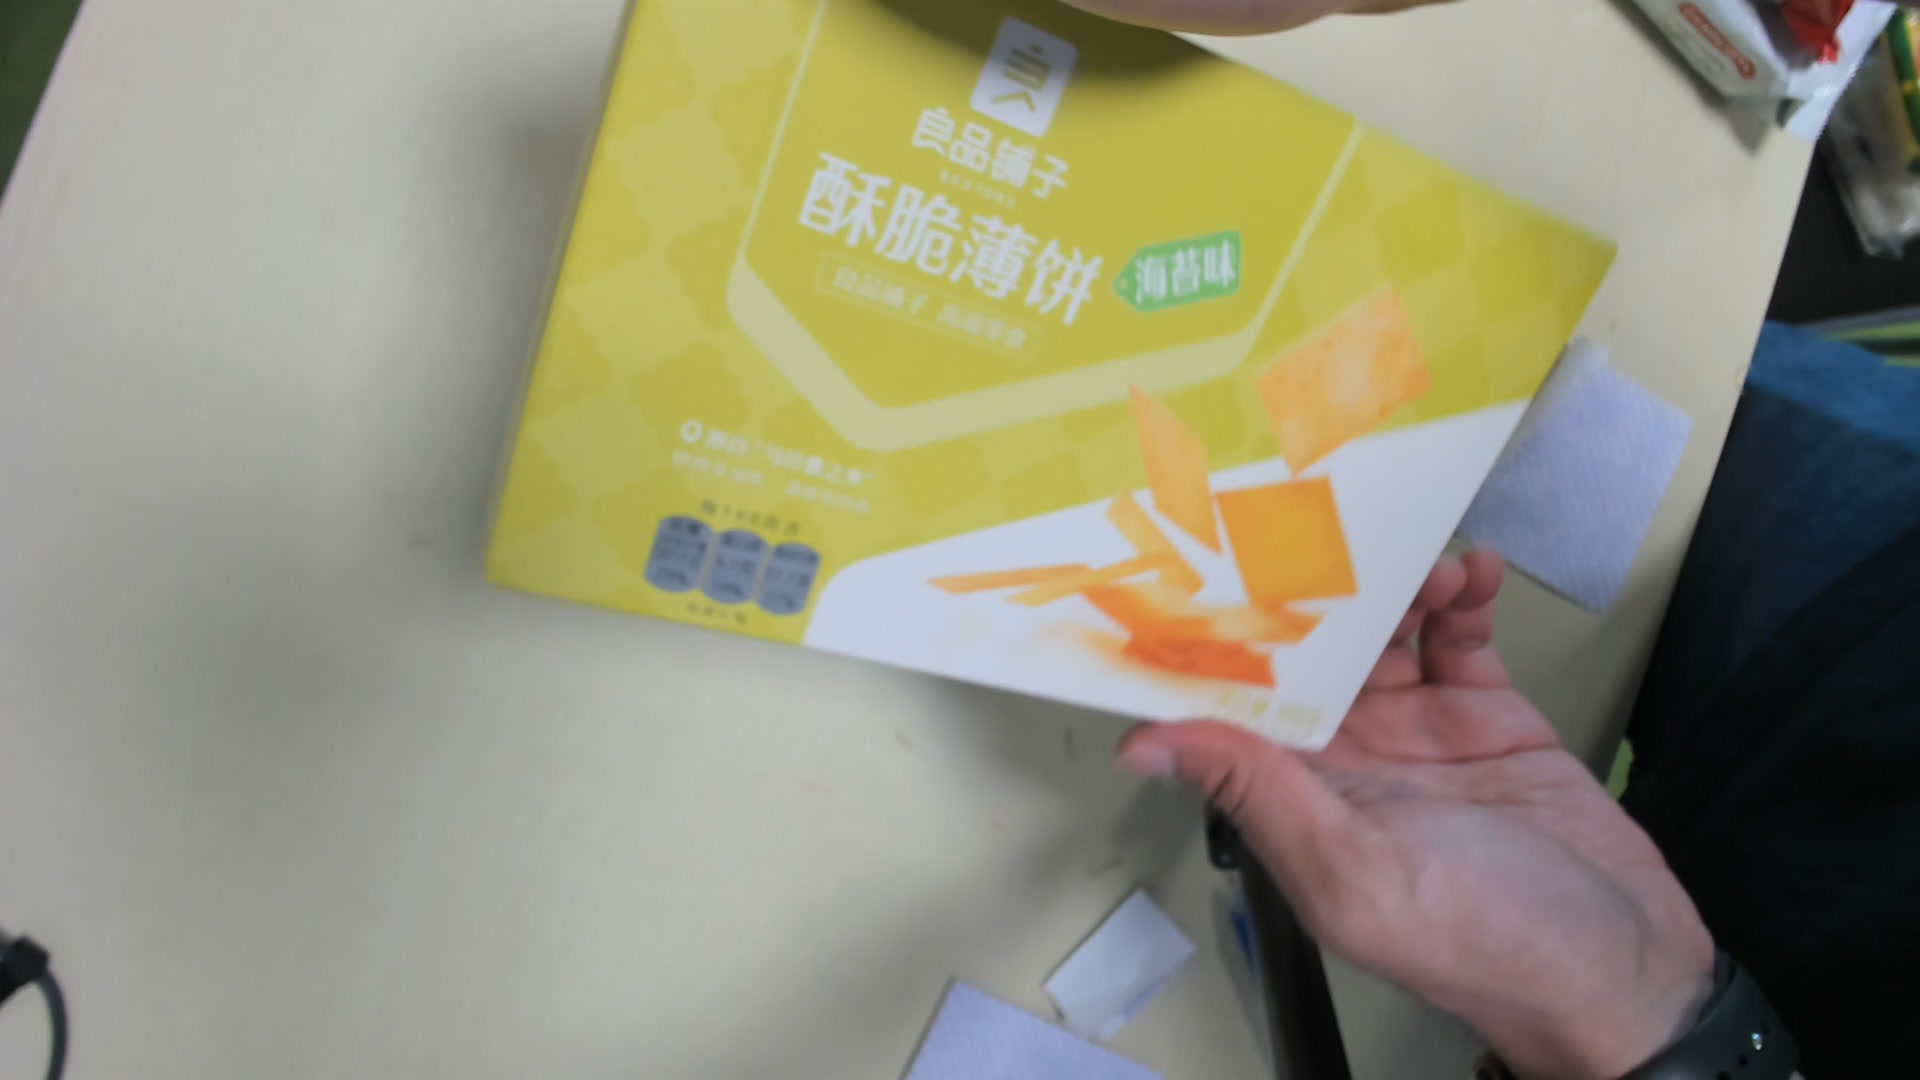BiscuitsCrackersCookies_300-399g_Halal_NonHealthy: (495, 5, 1621, 753)
